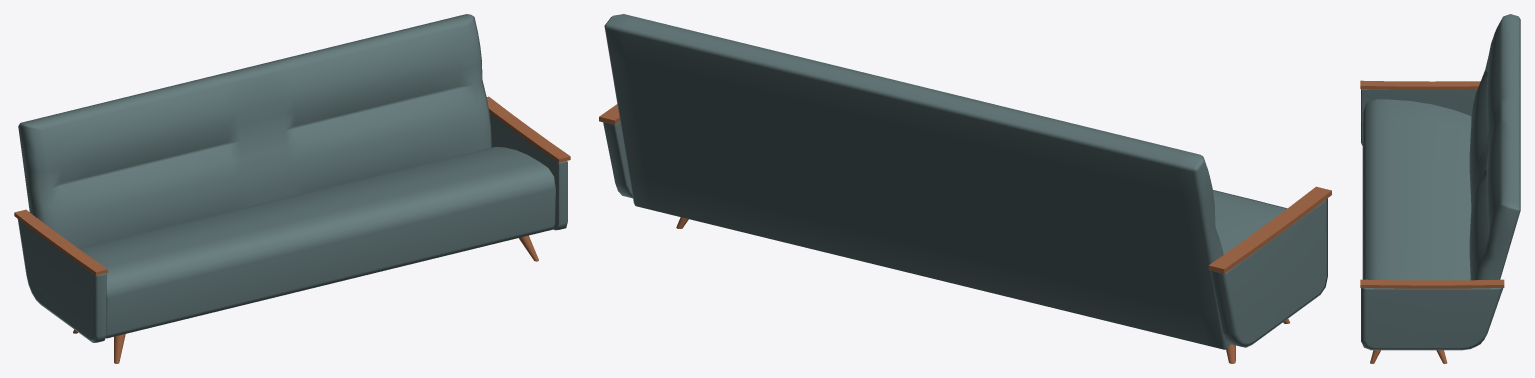
File: sofa.fbx
3 renders of one model, left to right at view 1: azimuth 30°, elevation 25°; view 2: azimuth 150°, elevation 25°; view 3: azimuth 270°, elevation 25°, orthographic. The views are drawn at different scales.
Visible parts, largest first — view 1: sofa; view 2: sofa; view 3: sofa.
Part boxes in pixels (x1,y1,x2,y2): sofa: (14, 14, 570, 363); sofa: (599, 14, 1331, 363); sofa: (1360, 14, 1520, 363).
Bounding box in the file's own units: 245 × 81.23 × 91.24.
